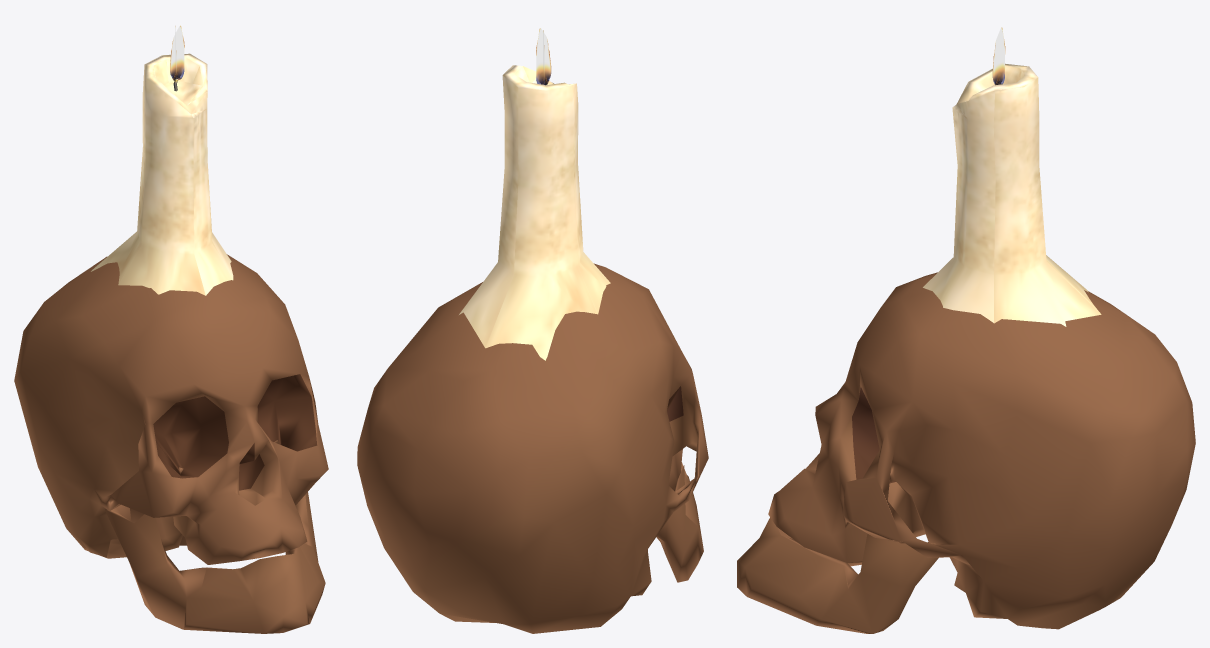
The model's file is CandleSkullShapeA.000.glb.
The picture shows the model from 3 angles, left to right: view 1: azimuth 30°, elevation 25°; view 2: azimuth 150°, elevation 25°; view 3: azimuth 270°, elevation 25°; orthographic projection. The views are drawn at different scales.
Visible parts, largest first — view 1: CandleSkullShapeA; view 2: CandleSkullShapeA; view 3: CandleSkullShapeA.
Boxes of the visible parts, x1,y1,x2,y2 form: CandleSkullShapeA: (14,25,328,633); CandleSkullShapeA: (357,28,708,633); CandleSkullShapeA: (737,27,1195,633).
Size of the model in its own units: 0.2005 by 0.4386 by 0.3132.
Materials: 2 (2 with a texture image).
